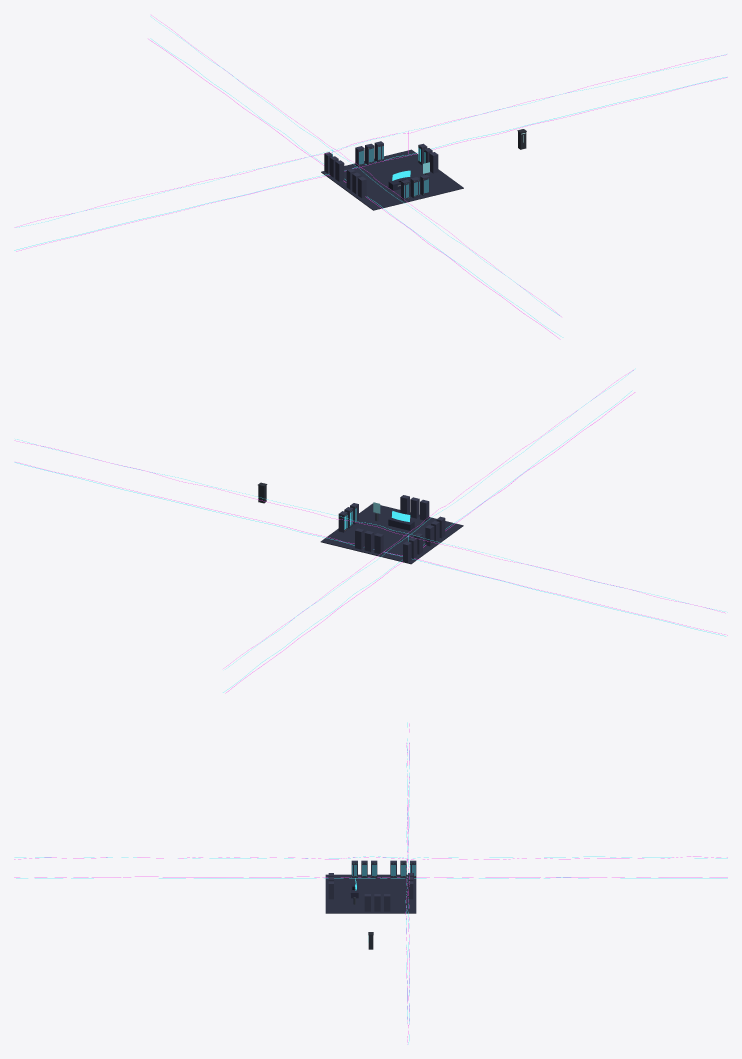
Rendered from server-room.glb.
3 renders of one model, top to bottom at view 1: azimuth 30°, elevation 25°; view 2: azimuth 150°, elevation 25°; view 3: azimuth 270°, elevation 25°, orthographic. The views are drawn at different scales.
Parts seen in each view (by area): view 1: Floor, Cable_FloorBack_cyan, Cable_FloorBack_magenta, Cable_CeilBack_magenta; view 2: Floor, Cable_FloorBack_cyan, Cable_CeilBack_magenta, Cable_FloorBack_magenta; view 3: Floor, Cable_FloorLeft_magenta.
Boxes of the visible parts, left/top/right/bottom form: Floor: left=321, top=149, right=463, bottom=210; Cable_FloorBack_cyan: left=14, top=77, right=726, bottom=250; Cable_FloorBack_magenta: left=16, top=77, right=727, bottom=251; Cable_CeilBack_magenta: left=14, top=54, right=726, bottom=227; Floor: left=320, top=503, right=463, bottom=564; Cable_FloorBack_cyan: left=14, top=462, right=725, bottom=636; Cable_CeilBack_magenta: left=14, top=440, right=725, bottom=613; Cable_FloorBack_magenta: left=16, top=462, right=727, bottom=635; Floor: left=325, top=874, right=416, bottom=913; Cable_FloorLeft_magenta: left=14, top=876, right=727, bottom=877.
Bounding box in the file's own units: 110 × 3.79 × 110.
